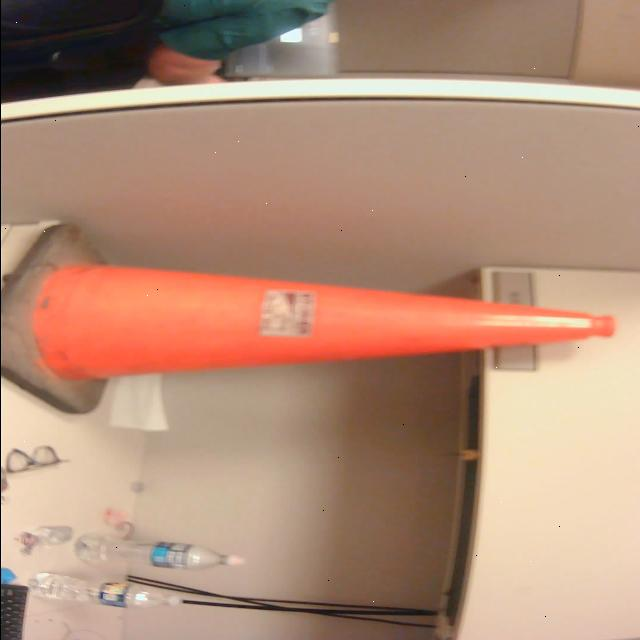traffic cone: (1, 216, 626, 423)
